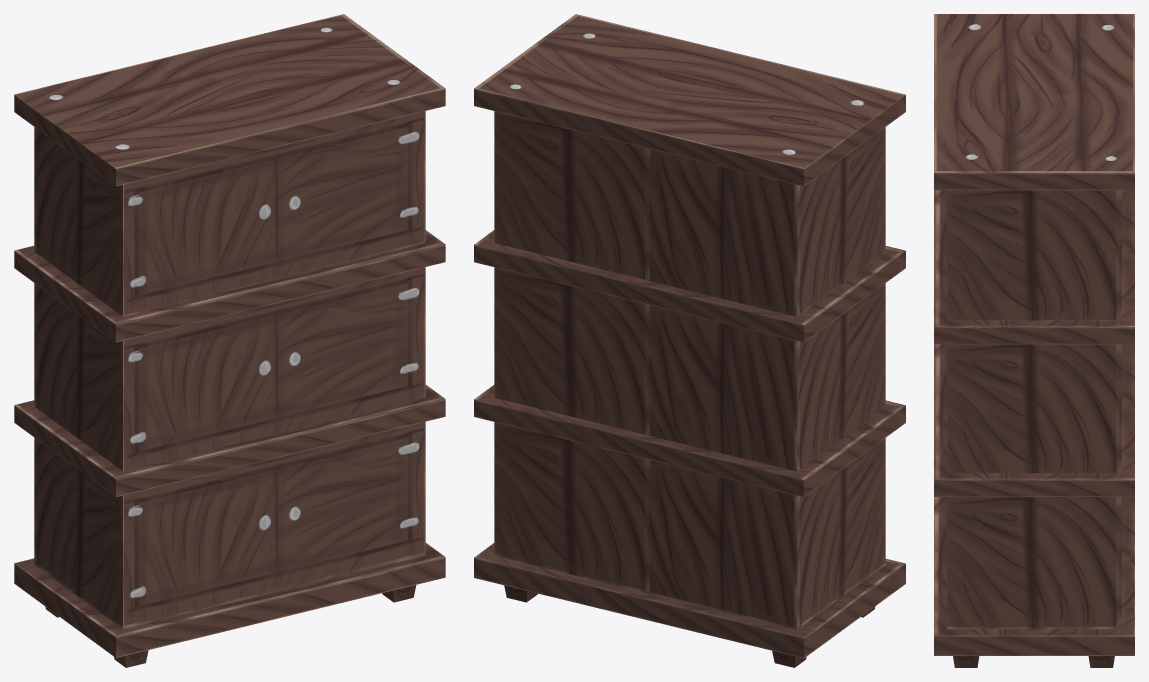
The model's file is closet_large.glb.
3 renders of one model, left to right at view 1: azimuth 30°, elevation 25°; view 2: azimuth 150°, elevation 25°; view 3: azimuth 270°, elevation 25°, orthographic.
Parts seen in each view (by area): view 1: closet_large; view 2: closet_large; view 3: closet_large.
Boxes of the visible parts, x1=… form: closet_large: x1=14, y1=14, x2=445, y2=667; closet_large: x1=474, y1=14, x2=905, y2=667; closet_large: x1=934, y1=14, x2=1134, y2=667.
Size of the model in its own units: 1.21 by 1.79 by 0.6447.
1 material, 1 textured.
